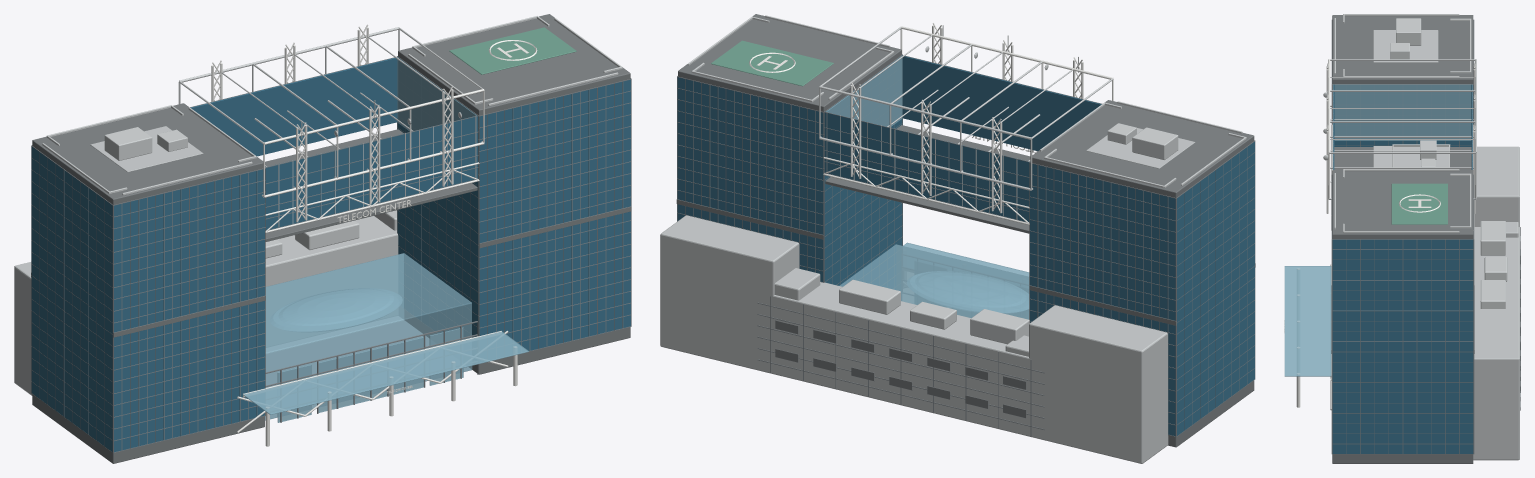
Rendered from telecom-center.glb.
3 views of the same model, side by side, from view 1: azimuth 30°, elevation 25°; view 2: azimuth 150°, elevation 25°; view 3: azimuth 270°, elevation 25° (orthographic). The views are drawn at different scales.
Visible parts, largest first — view 1: Tower_01_Facade_Front_Glass, Tower_02_Facade_Front_Glass, Twin_Tower_Structural_Cores, Sky_Bridge_Glass_Facades, Tower_01_Facade_Outer_Glass, Atrium_Lower_Shell, Tower_01_Facade_Long_Frames, Tower_02_Facade_Inner_Glass, Tower_02_Facade_Long_Frames, Entrance_Glass_Canopy, Rear_Podium_Service_Volume, Tower_01_Facade_Side_Frames (+18 smaller); view 2: Rear_Podium_Service_Volume, Sky_Bridge_Glass_Facades, Tower_01_Facade_Rear_Glass, Tower_02_Facade_Rear_Glass, Tower_01_Facade_Outer_Glass, Twin_Tower_Structural_Cores, Atrium_Lower_Shell, Tower_02_Facade_Inner_Glass, Tower_01_Facade_Long_Frames, Tower_02_Facade_Long_Frames, Tower_01_Facade_Side_Frames, Communication_Three_Lattice_Towers (+16 smaller); view 3: Tower_02_Facade_Outer_Glass, Twin_Tower_Structural_Cores, Rear_Podium_Service_Volume, Sky_Bridge_Inner_Curtainwall, Tower_02_Facade_Side_Frames, Entrance_Glass_Canopy, Satellite_Roof_Service_Decks, Communication_Two_Level_Truss_Bands, Helipad_Platform, Roof_Mechanical_Volumes, Twin_Tower_Stepped_Roof_Curbs, Communication_Three_Lattice_Towers (+8 smaller).
Part boxes in pixels (bbox=[...]): Tower_01_Facade_Front_Glass: bbox=[114, 169, 264, 452]; Tower_02_Facade_Front_Glass: bbox=[479, 79, 630, 350]; Twin_Tower_Structural_Cores: bbox=[32, 14, 630, 463]; Sky_Bridge_Glass_Facades: bbox=[191, 57, 477, 230]; Tower_01_Facade_Outer_Glass: bbox=[31, 146, 112, 451]; Atrium_Lower_Shell: bbox=[265, 253, 472, 420]; Tower_01_Facade_Long_Frames: bbox=[32, 145, 265, 452]; Tower_02_Facade_Inner_Glass: bbox=[397, 62, 478, 339]; Tower_02_Facade_Long_Frames: bbox=[397, 56, 631, 351]; Entrance_Glass_Canopy: bbox=[243, 331, 528, 414]; Rear_Podium_Service_Volume: bbox=[14, 210, 398, 395]; Tower_01_Facade_Side_Frames: bbox=[31, 145, 265, 452]; Rear_Podium_Service_Volume: bbox=[660, 215, 1168, 463]; Sky_Bridge_Glass_Facades: bbox=[824, 55, 1101, 222]; Tower_01_Facade_Rear_Glass: bbox=[1030, 163, 1175, 436]; Tower_02_Facade_Rear_Glass: bbox=[677, 77, 823, 281]; Tower_01_Facade_Outer_Glass: bbox=[1177, 141, 1254, 435]; Twin_Tower_Structural_Cores: bbox=[678, 14, 1254, 447]; Atrium_Lower_Shell: bbox=[839, 244, 1029, 319]; Tower_02_Facade_Inner_Glass: bbox=[824, 59, 902, 289]; Tower_01_Facade_Long_Frames: bbox=[1029, 140, 1254, 436]; Tower_02_Facade_Long_Frames: bbox=[677, 54, 902, 282]; Tower_01_Facade_Side_Frames: bbox=[1176, 140, 1255, 436]; Communication_Three_Lattice_Towers: bbox=[850, 23, 1083, 213]; Tower_02_Facade_Outer_Glass: bbox=[1332, 239, 1473, 453]; Twin_Tower_Structural_Cores: bbox=[1332, 15, 1473, 463]; Rear_Podium_Service_Volume: bbox=[1473, 146, 1519, 460]; Sky_Bridge_Inner_Curtainwall: bbox=[1334, 84, 1471, 140]; Tower_02_Facade_Side_Frames: bbox=[1332, 175, 1473, 454]; Entrance_Glass_Canopy: bbox=[1284, 266, 1331, 376]; Satellite_Roof_Service_Decks: bbox=[1373, 30, 1448, 167]; Communication_Two_Level_Truss_Bands: bbox=[1328, 59, 1476, 199]; Helipad_Platform: bbox=[1391, 183, 1447, 224]; Roof_Mechanical_Volumes: bbox=[1480, 221, 1507, 308]; Twin_Tower_Stepped_Roof_Curbs: bbox=[1334, 14, 1471, 233]; Communication_Three_Lattice_Towers: bbox=[1326, 63, 1475, 213].
Size of the model in its own units: 184 by 103 by 83.96.
